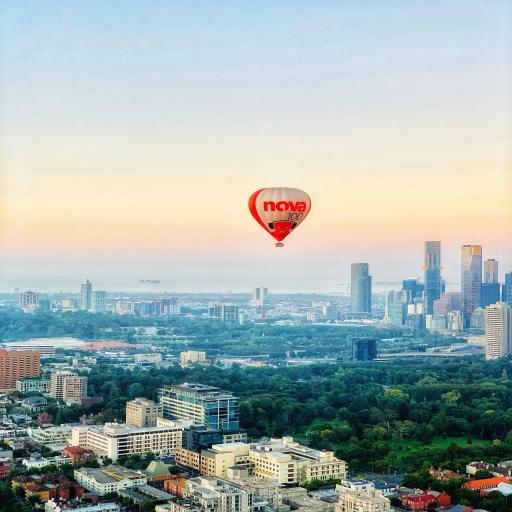hot air ballon: (244, 180, 318, 251)
